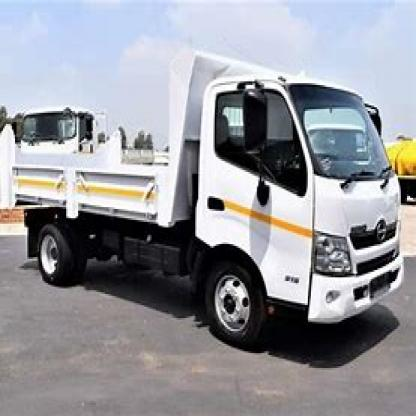dump_truck: (3, 46, 415, 357)
